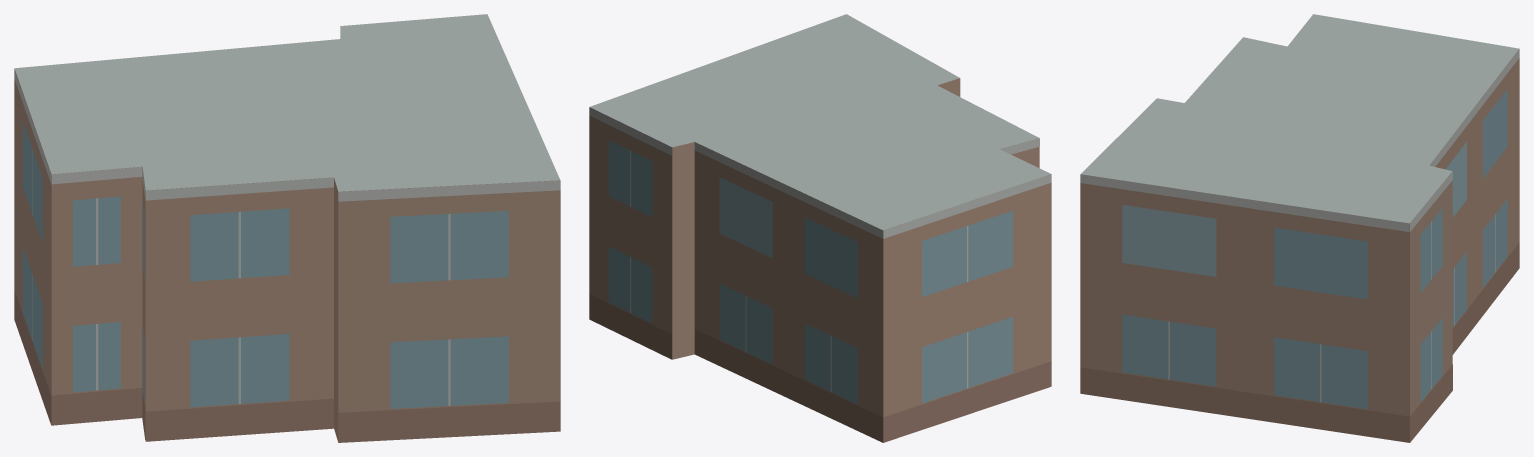
The model's file is survey-upis-32881283.glb.
The picture shows the model from 3 angles, left to right: view 1: azimuth 30°, elevation 25°; view 2: azimuth 150°, elevation 25°; view 3: azimuth 270°, elevation 25°; orthographic projection. The views are drawn at different scales.
Parts seen in each view (by area): view 1: survey-upis-32881283.tmp; view 2: survey-upis-32881283.tmp; view 3: survey-upis-32881283.tmp.
Boxes of the visible parts, x1,y1,x2,y2 form: survey-upis-32881283.tmp: (14,14,560,442); survey-upis-32881283.tmp: (589,14,1051,442); survey-upis-32881283.tmp: (1080,14,1519,442).
Size of the model in its own units: 12.5 by 6.1 by 11.08.
